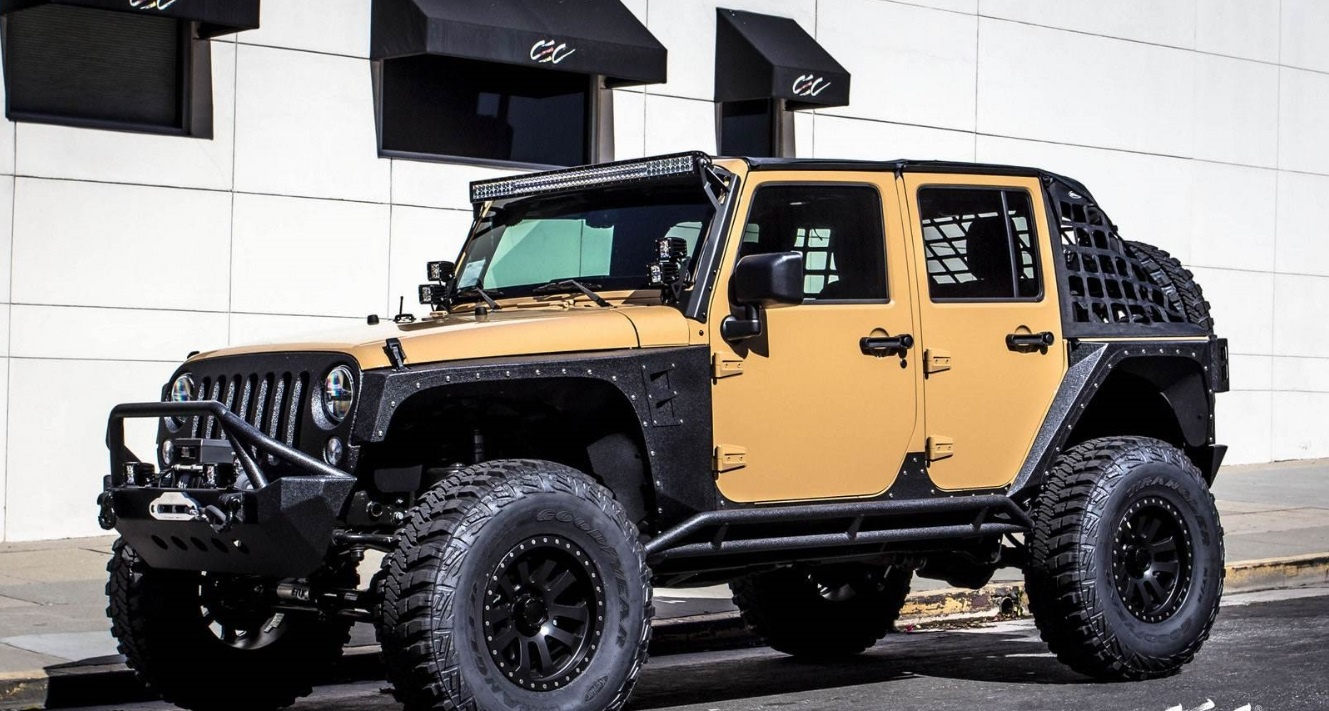jeep: (78, 114, 1306, 703)
